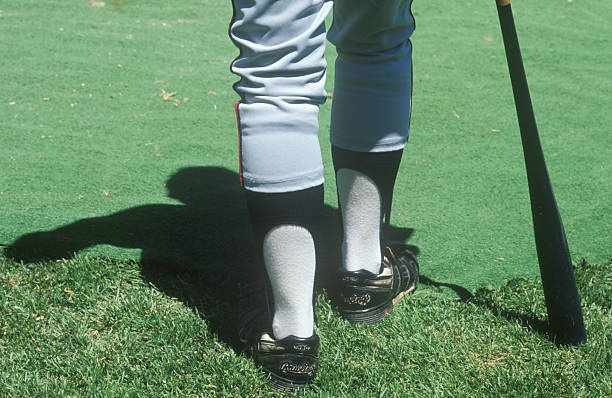bita: (492, 1, 582, 343)
